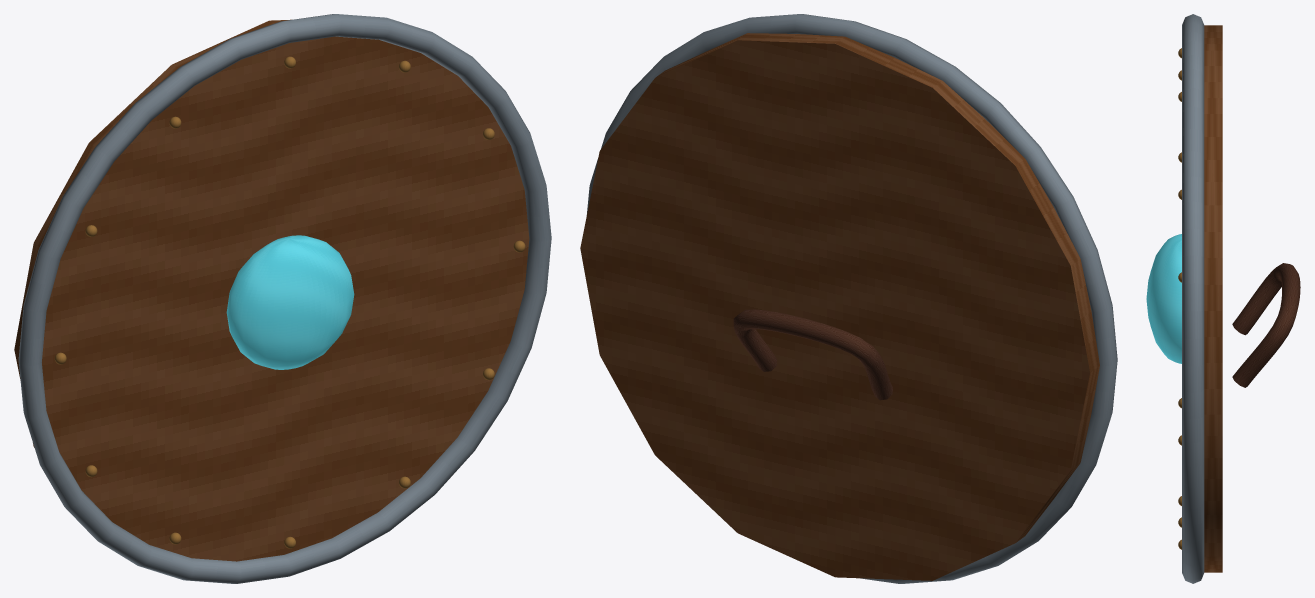
Rendered from kinetic-disc.lod1.glb.
3 renders of one model, left to right at view 1: azimuth 30°, elevation 25°; view 2: azimuth 150°, elevation 25°; view 3: azimuth 270°, elevation 25°, orthographic. The views are drawn at different scales.
Parts seen in each view (by area): view 1: wood.0, steel.1, crystal.2; view 2: wood.0, steel.1, leather.15; view 3: steel.1, wood.0, leather.15, crystal.2.
Boxes of the visible parts, x1,y1,x2,y2 form: wood.0: [14, 19, 529, 561]; steel.1: [18, 14, 551, 583]; crystal.2: [226, 235, 354, 369]; wood.0: [580, 33, 1099, 580]; steel.1: [586, 14, 1117, 583]; leather.15: [733, 309, 892, 400]; steel.1: [1182, 14, 1204, 583]; wood.0: [1204, 25, 1222, 572]; leather.15: [1232, 263, 1300, 387]; crystal.2: [1146, 234, 1181, 363].
Size of the model in its own units: 0.916 by 0.916 by 0.2473.
Materials: 5 (5 with a texture image).
